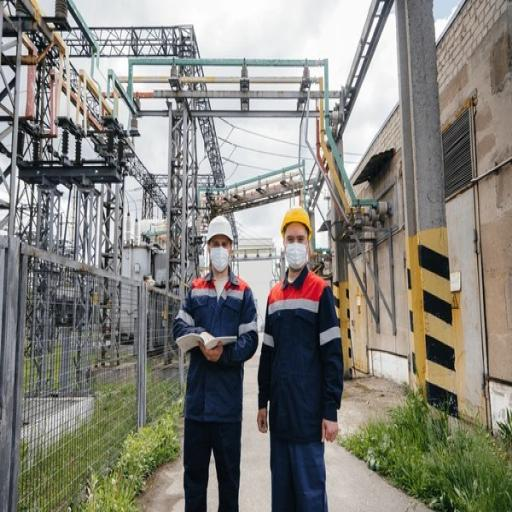mask: (286, 241, 310, 270), (209, 246, 231, 270)
